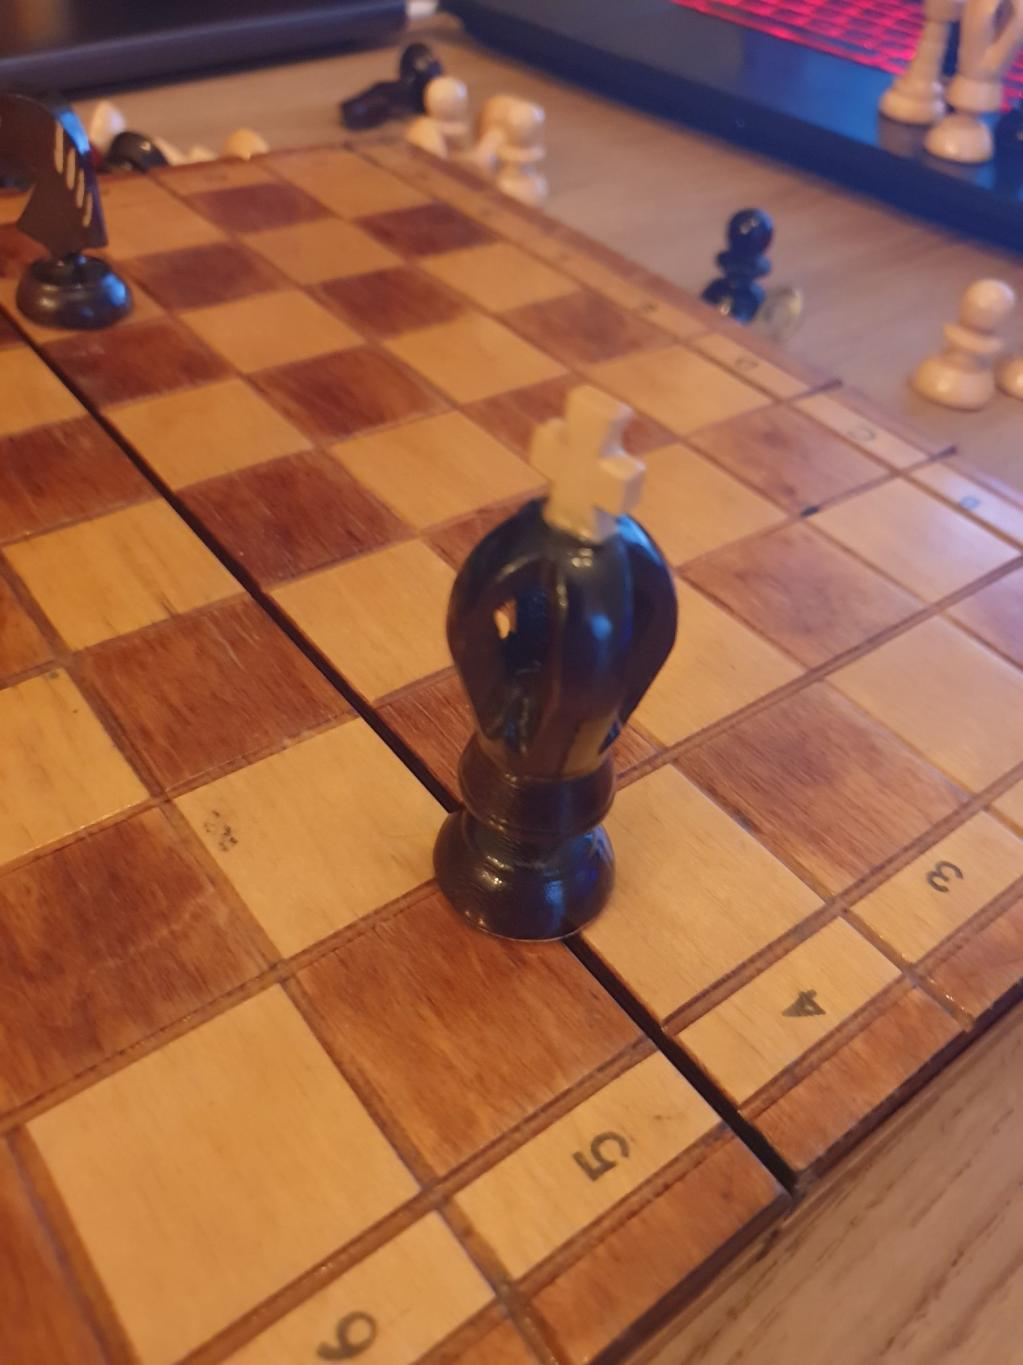bking: (433, 383, 680, 942)
